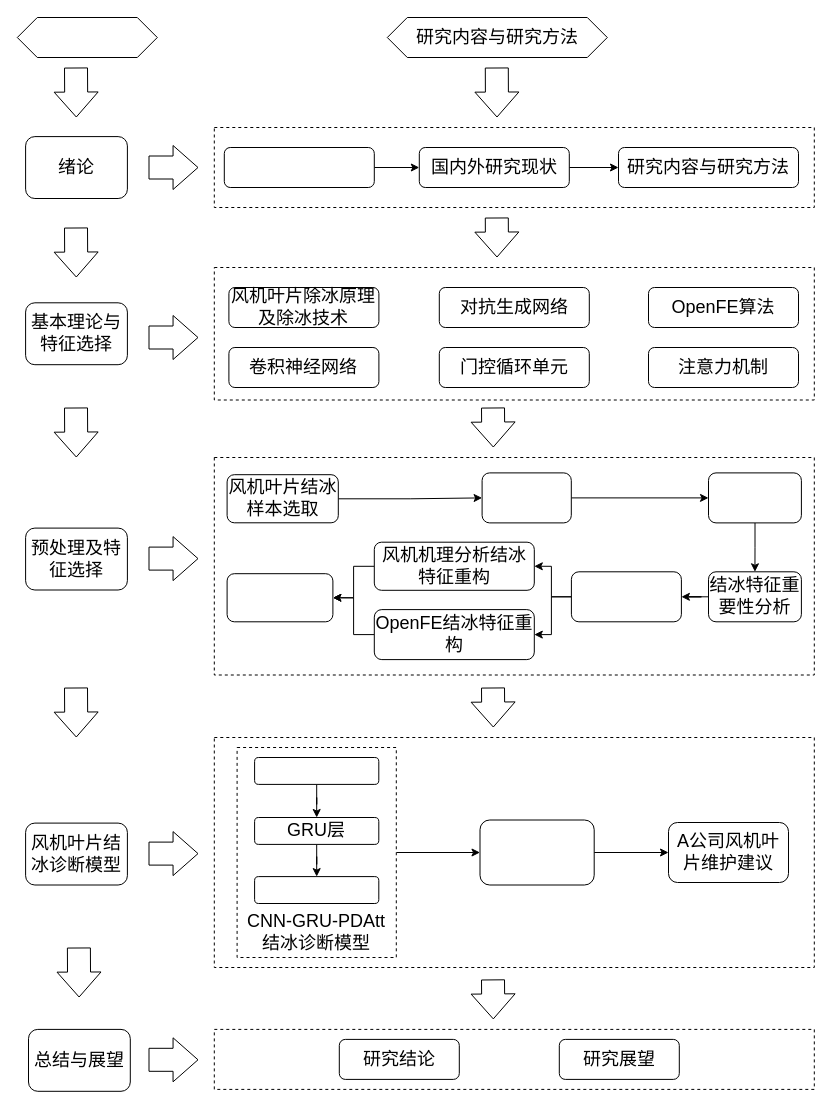
Image size: 832x1109. Some labels were removed from this diagram. The shapes that lost their labels are listed below. From the top down, each one's centre as x and y in pixels, then its label:
the point at 86,37: 研究目标
the point at 298,167: 研究背景与意义
the point at 526,497: 归一化
the point at 754,497: 结冰特征相关性分析
the point at 279,597: 选择的结冰特征
the point at 625,596: 改进GAN的数据均衡化
the point at 316,770: CNN层
the point at 536,852: 实验结果分析
the point at 316,890: PDAtt层
